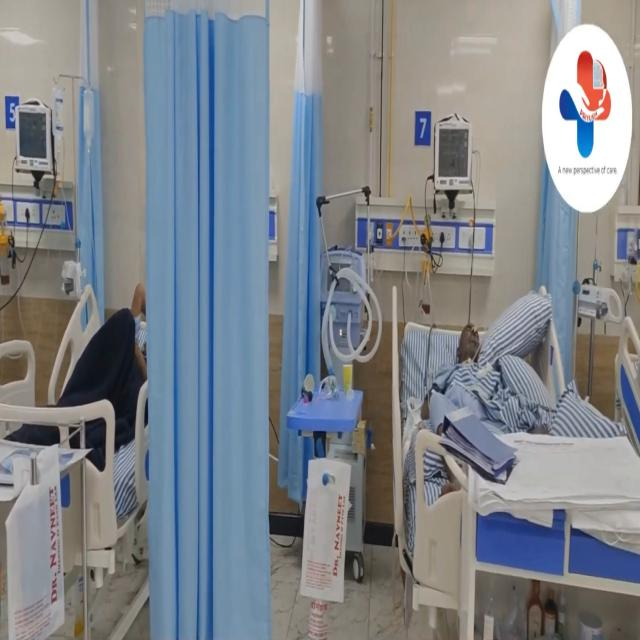Patient: (429, 298, 509, 395), (100, 252, 146, 410)
